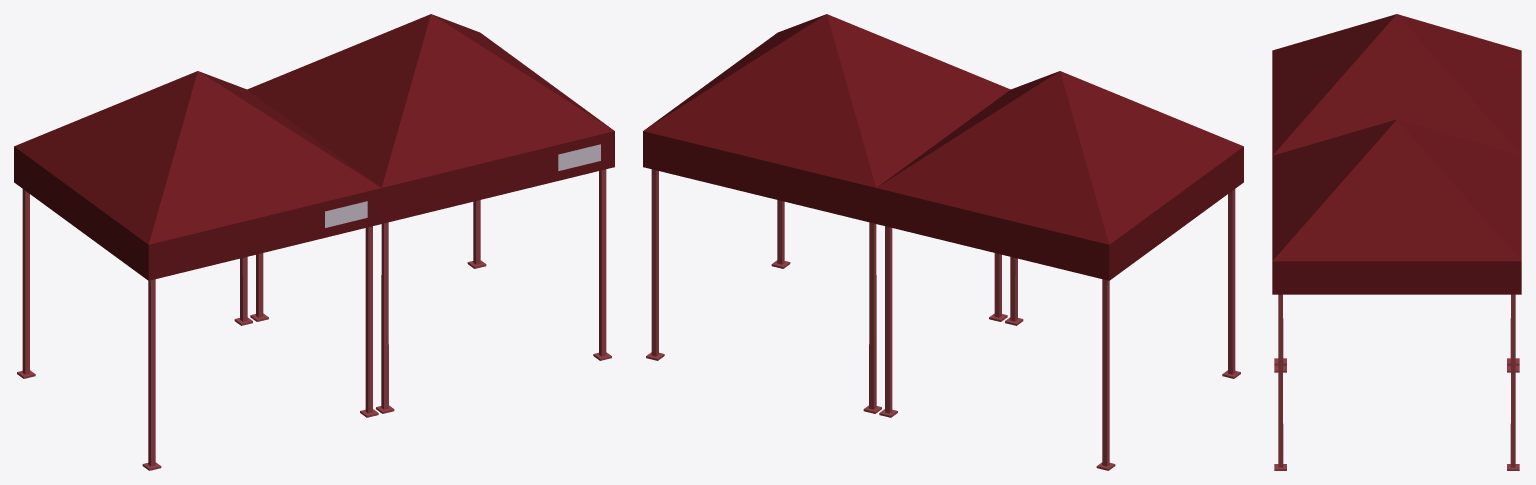
File: Tent_FoodTent_02.fbx
3 views of the same model, side by side, from view 1: azimuth 30°, elevation 25°; view 2: azimuth 150°, elevation 25°; view 3: azimuth 270°, elevation 25° (orthographic). The views are drawn at different scales.
Visible parts, largest first — view 1: Tent_FoodTent_02; view 2: Tent_FoodTent_02; view 3: Tent_FoodTent_02.
Part boxes in pixels (x1,y1,x2,y2): Tent_FoodTent_02: (14,14,614,470); Tent_FoodTent_02: (643,14,1243,470); Tent_FoodTent_02: (1272,14,1521,470).
Size of the model in its own units: 6 by 3.98 by 3.
